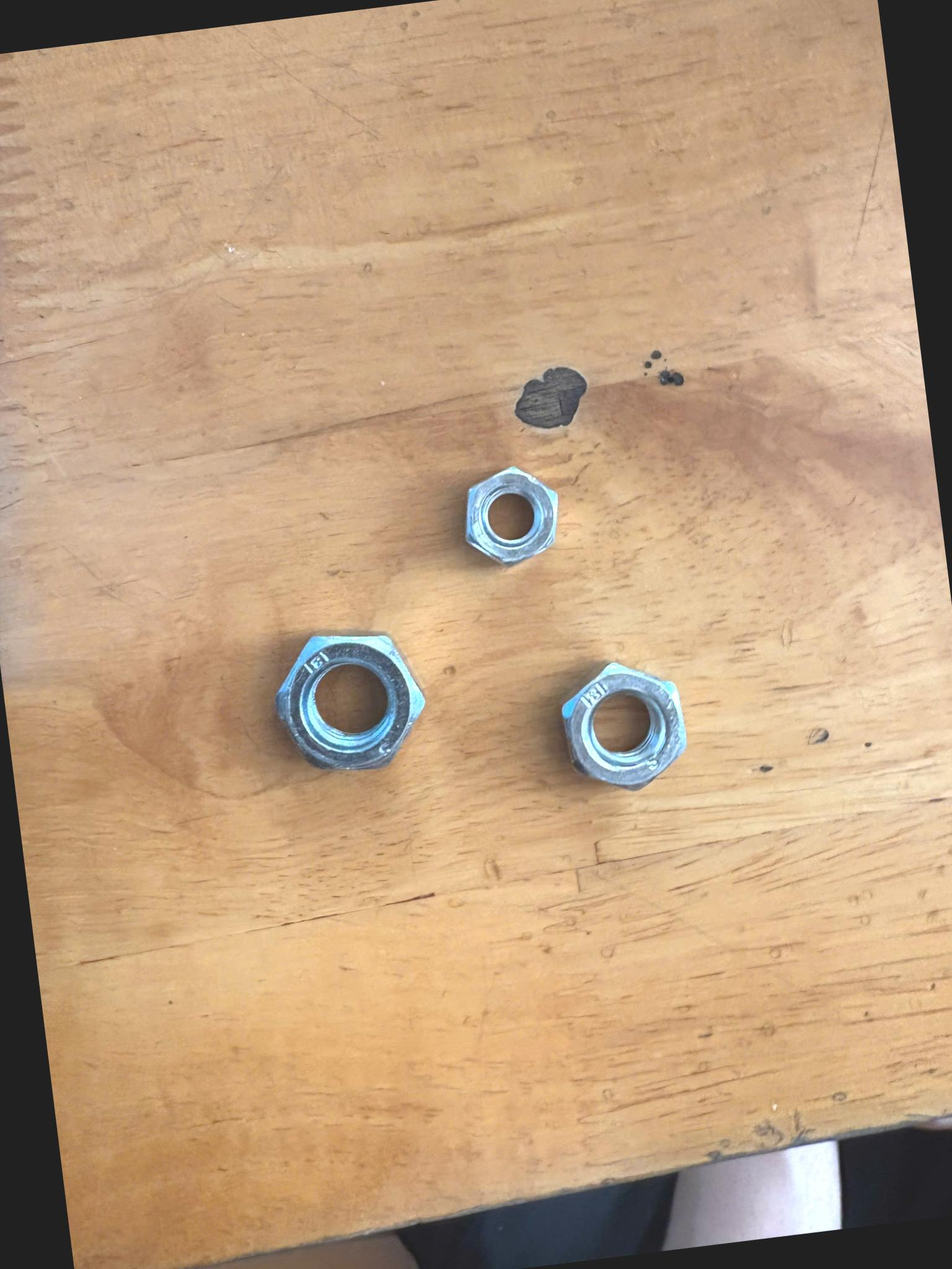nut: (258, 607, 439, 807), (445, 445, 578, 585)
